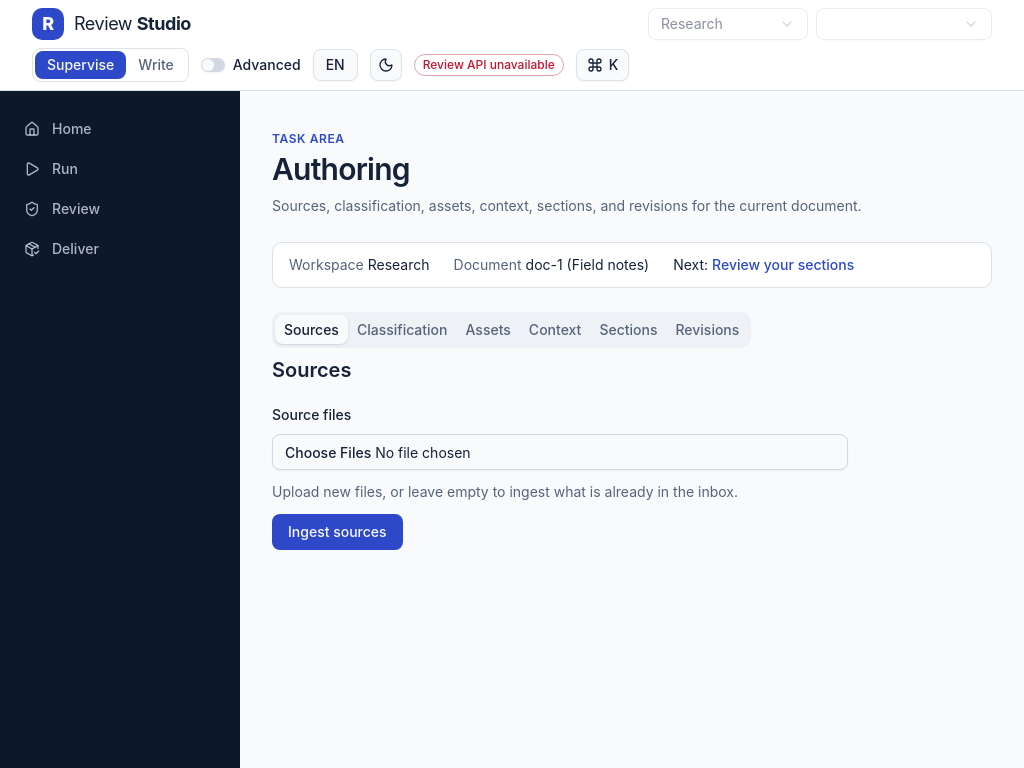
Test case: source intake › shows the server errors of a failed stage with recovery guidance
Click the button "Ingest sources": (337, 532) [272,514,403,550]
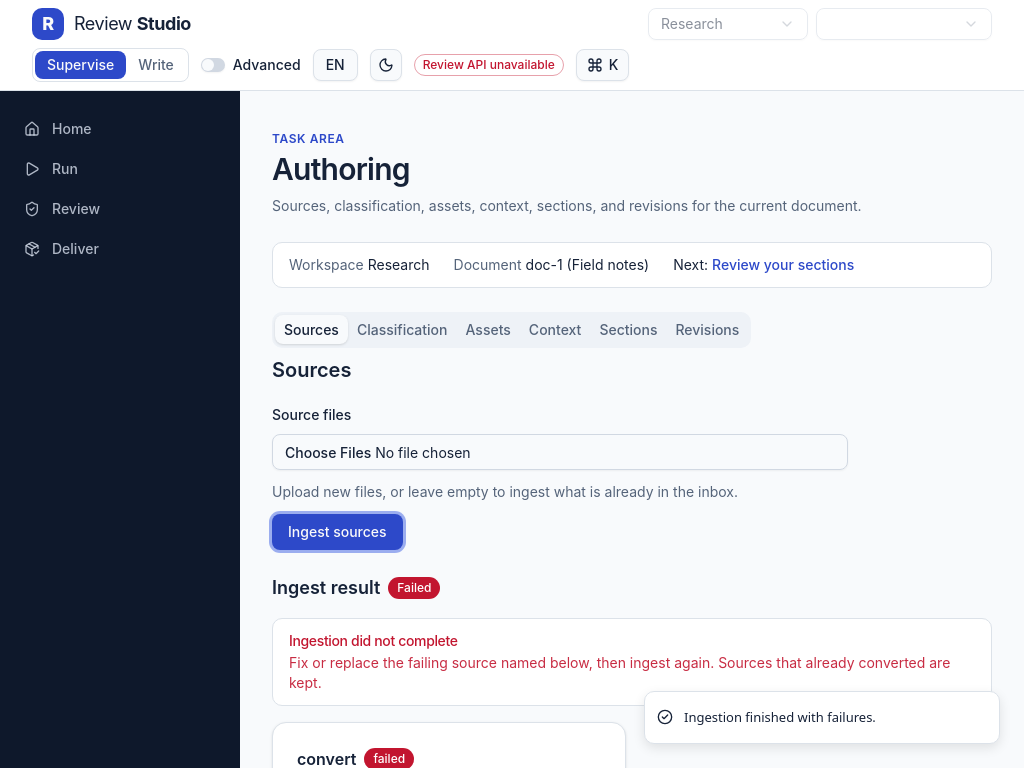
Expected: the text "Failed" is shown, [388,577,440,599]
Expected: the text "replace the failing source" is shown, [289,654,950,691]
